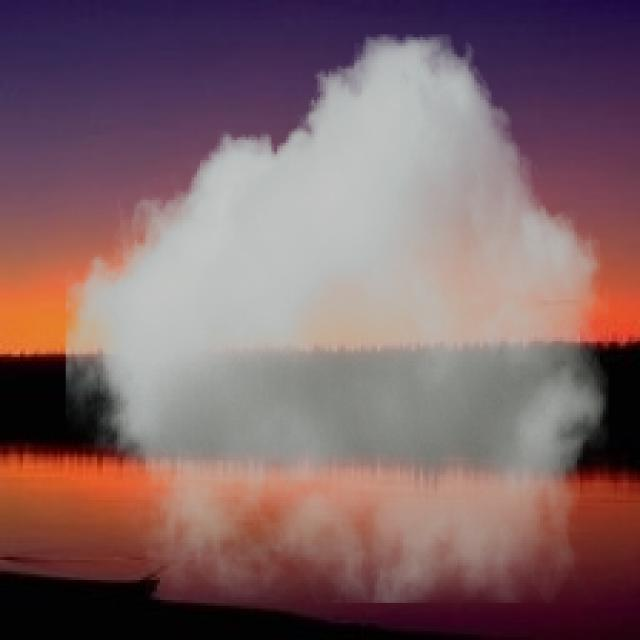smoke: (66, 34, 608, 603)
